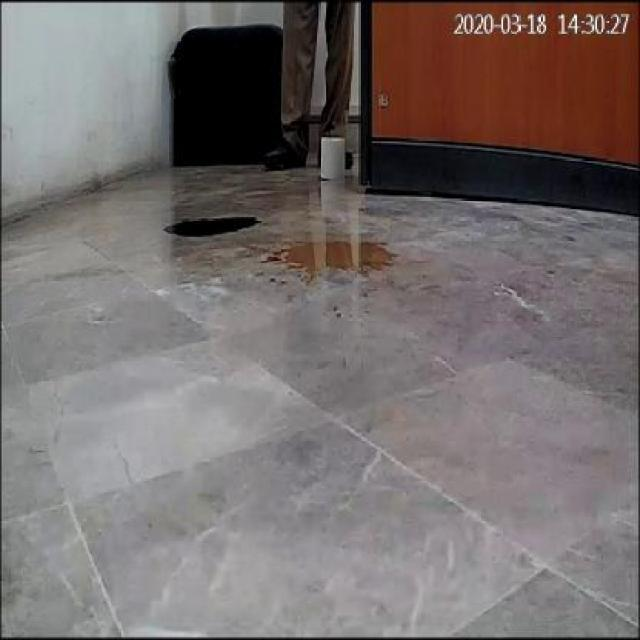spill: (251, 239, 394, 278), (158, 212, 258, 242)
